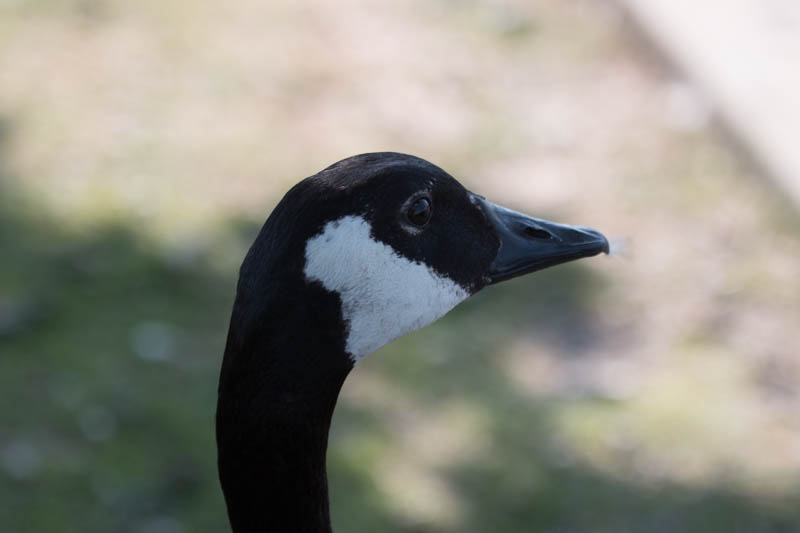goose-head: (220, 150, 611, 366)
